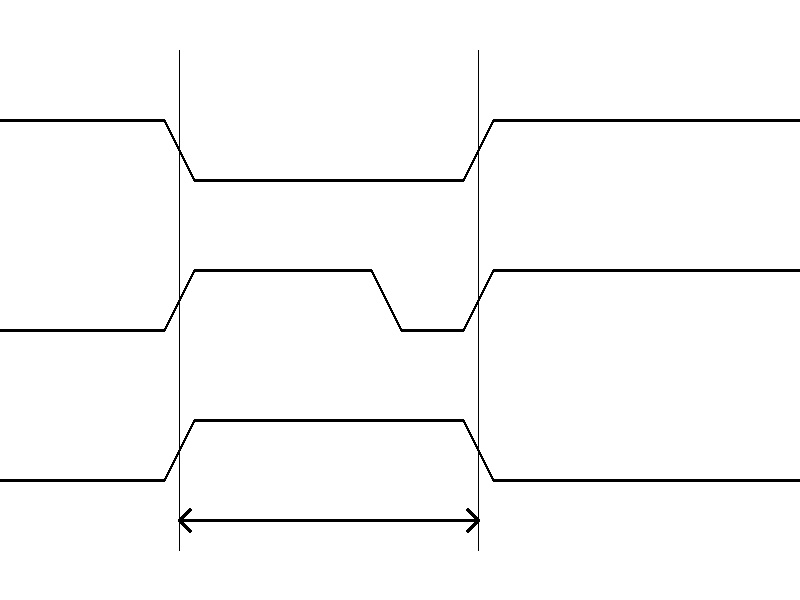double_arrow: (179, 505, 478, 535)
